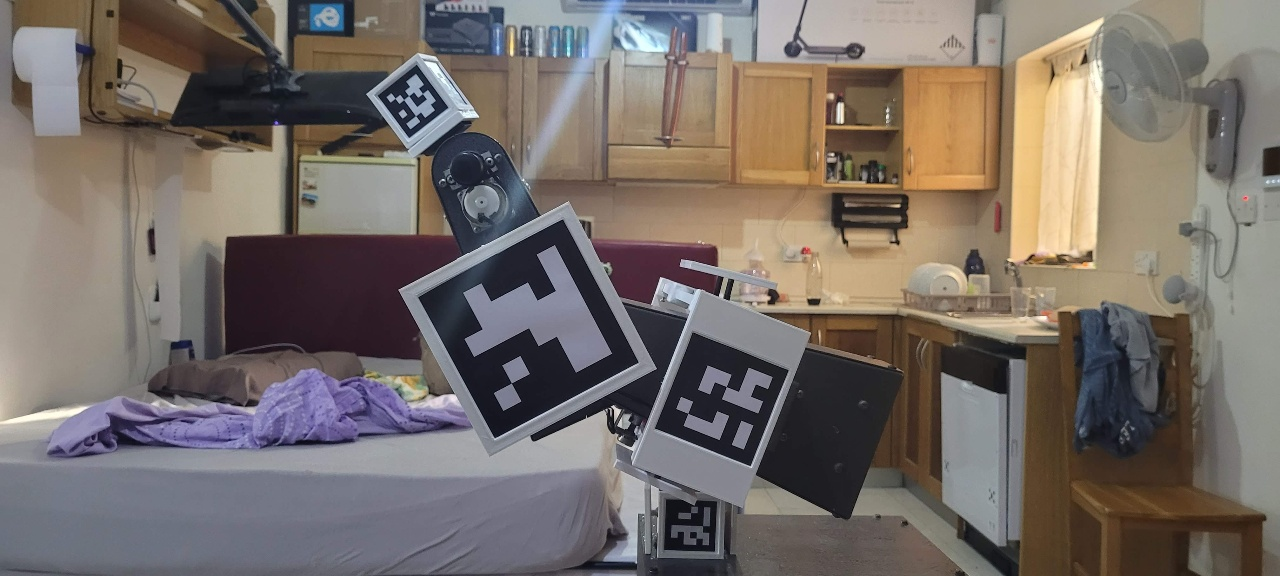Robot: (336, 20, 731, 576)
